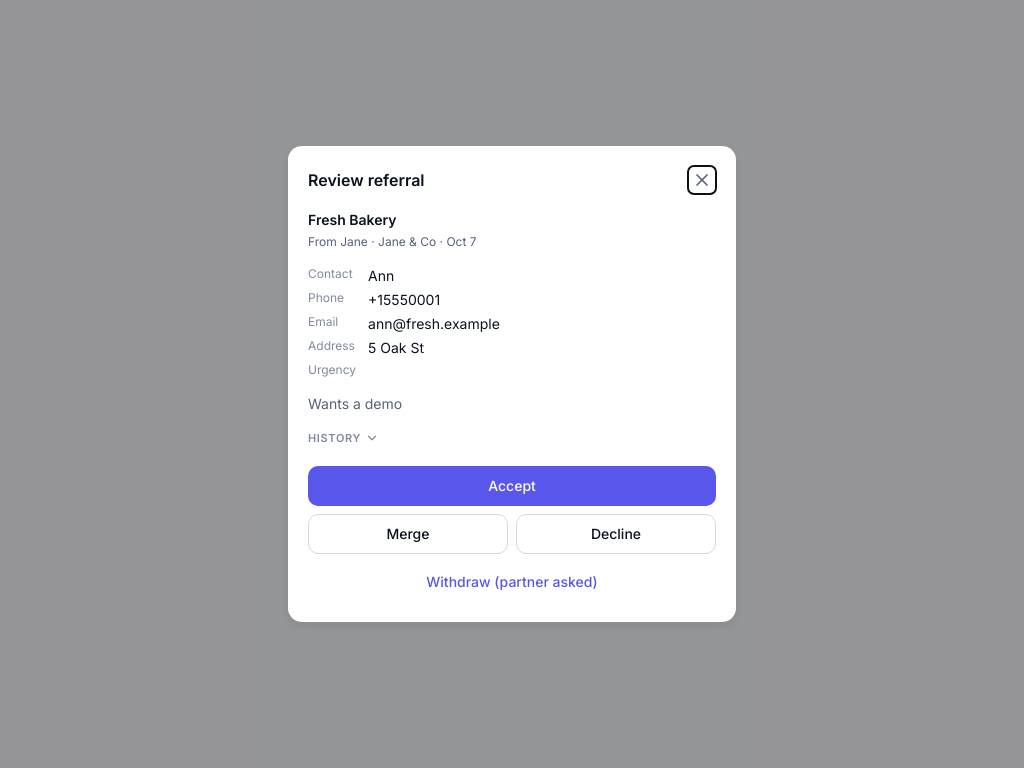
Test: ReviewReferralSheet › requires a reason to decline
Click the button "Decline": [616, 534] box x1=516 y1=514 x2=716 y2=554
(page scrolled)
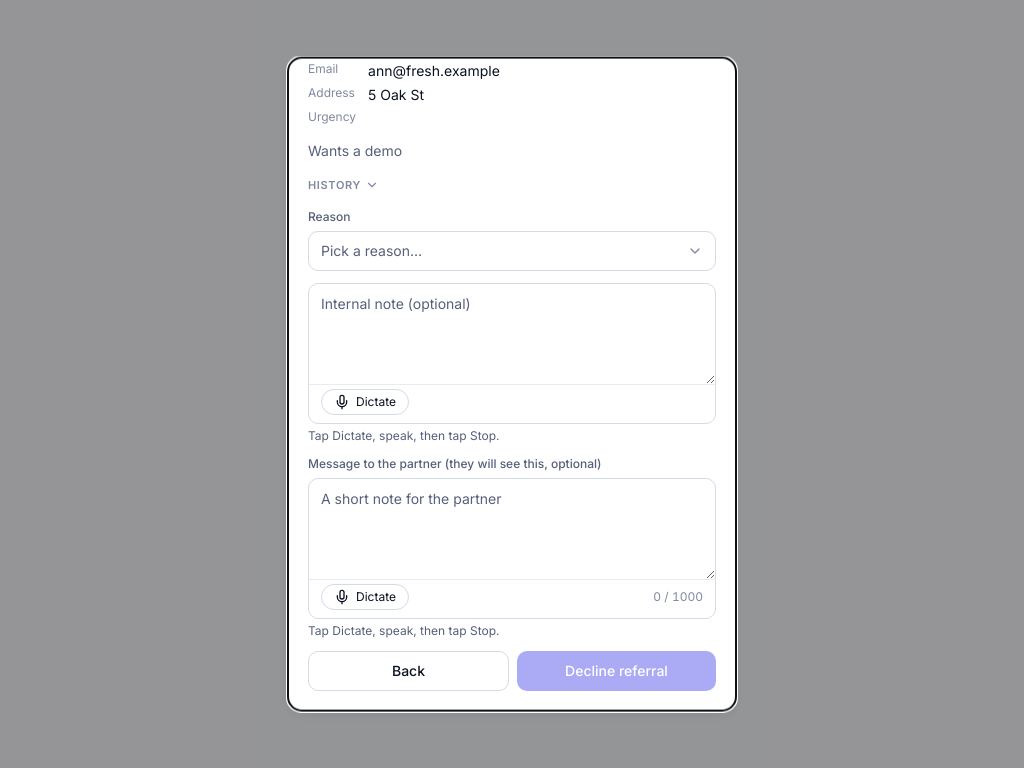
Result: the button "Decline referral" is disabled at x1=517 y1=651 x2=716 y2=691
